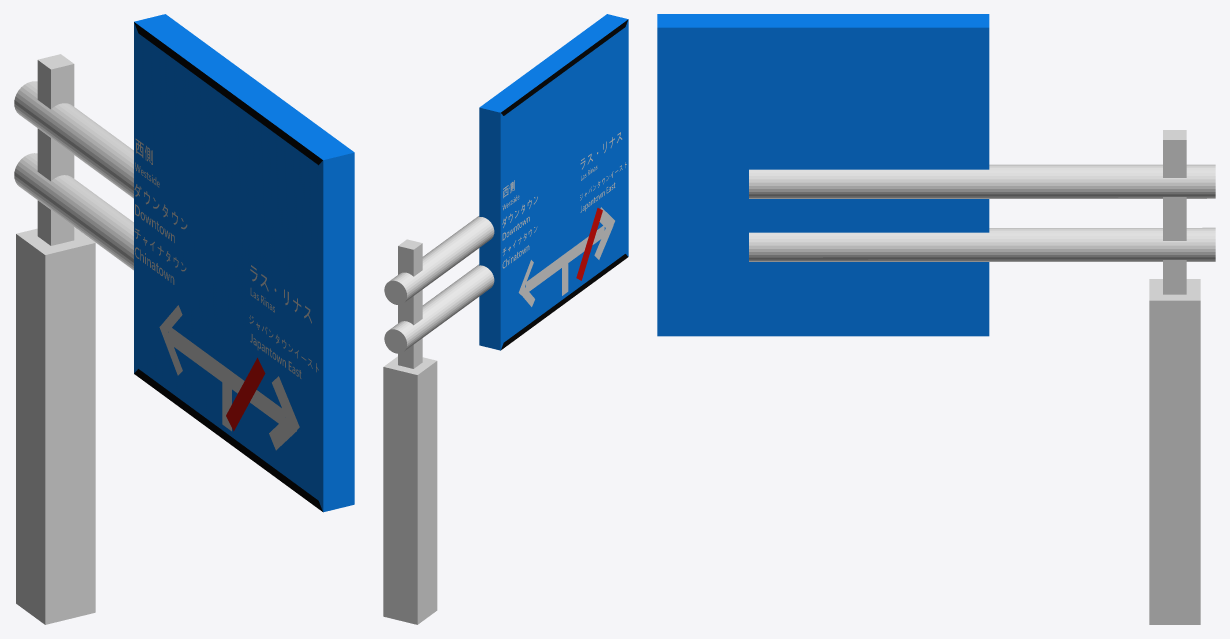
The model's file is japantown_sign_5.fbx.
The picture shows the model from 3 angles, left to right: view 1: azimuth 30°, elevation 25°; view 2: azimuth 150°, elevation 25°; view 3: azimuth 270°, elevation 25°; orthographic projection. The views are drawn at different scales.
Parts seen in each view (by area): view 1: Cube.003, Cube, Cylinder, Cylinder.001, Plane.007, Plane.001, Plane.006, Plane.005, Plane; view 2: Cube.003, Cube, Cylinder.001, Cylinder, Plane.007, Plane.001, Plane.006; view 3: Cube.003, Cube, Cylinder, Cylinder.001.
Part boxes in pixels (left/top/right/bottom): Cube.003: left=134, top=14, right=354, bottom=512; Cube: left=16, top=54, right=95, bottom=624; Cylinder: left=14, top=81, right=133, bottom=198; Cylinder.001: left=14, top=153, right=133, bottom=270; Plane.007: left=226, top=357, right=265, bottom=431; Plane.001: left=168, top=326, right=222, bottom=381; Plane.006: left=231, top=371, right=285, bottom=423; Plane.005: left=272, top=376, right=299, bottom=433; Plane: left=222, top=365, right=231, bottom=431; Cube.003: left=479, top=14, right=628, bottom=350; Cube: left=383, top=239, right=437, bottom=624; Cylinder.001: left=384, top=264, right=494, bottom=353; Cylinder: left=384, top=216, right=494, bottom=304; Plane.007: left=576, top=208, right=602, bottom=280; Plane.001: left=525, top=256, right=561, bottom=291; Plane.006: left=567, top=225, right=604, bottom=263; Cube.003: left=657, top=14, right=989, bottom=336; Cube: left=1149, top=130, right=1200, bottom=624; Cylinder: left=749, top=164, right=1215, bottom=198; Cylinder.001: left=749, top=227, right=1215, bottom=261.
Size of the model in its own units: 7.49 by 76.11 by 65.5.
